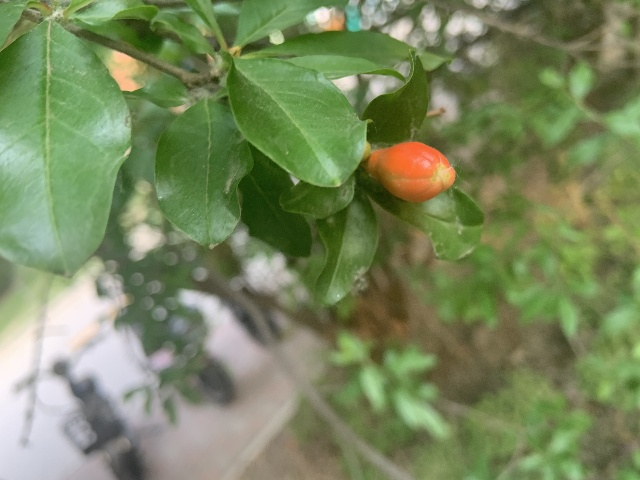bud: (366, 140, 455, 203)
